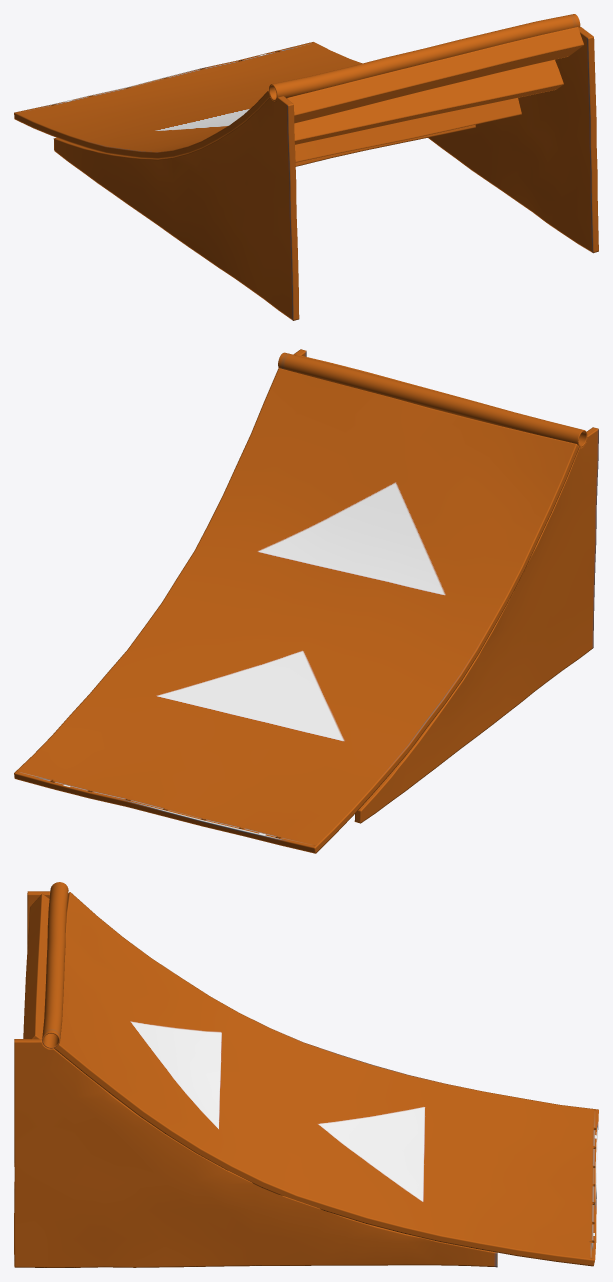
Rendered from RAMP02.fbx.
3 renders of one model, top to bottom at view 1: azimuth 30°, elevation 25°; view 2: azimuth 150°, elevation 25°; view 3: azimuth 270°, elevation 25°, orthographic. The views are drawn at different scales.
Visible parts, largest first — view 1: Skate ramp; view 2: Skate ramp; view 3: Skate ramp.
Boxes of the visible parts, x1,y1,x2,y2 form: Skate ramp: (14, 14, 598, 320); Skate ramp: (14, 349, 598, 853); Skate ramp: (14, 882, 598, 1267).
Size of the model in its own units: 88.85 by 63.45 by 143.
1 material, 1 textured.
